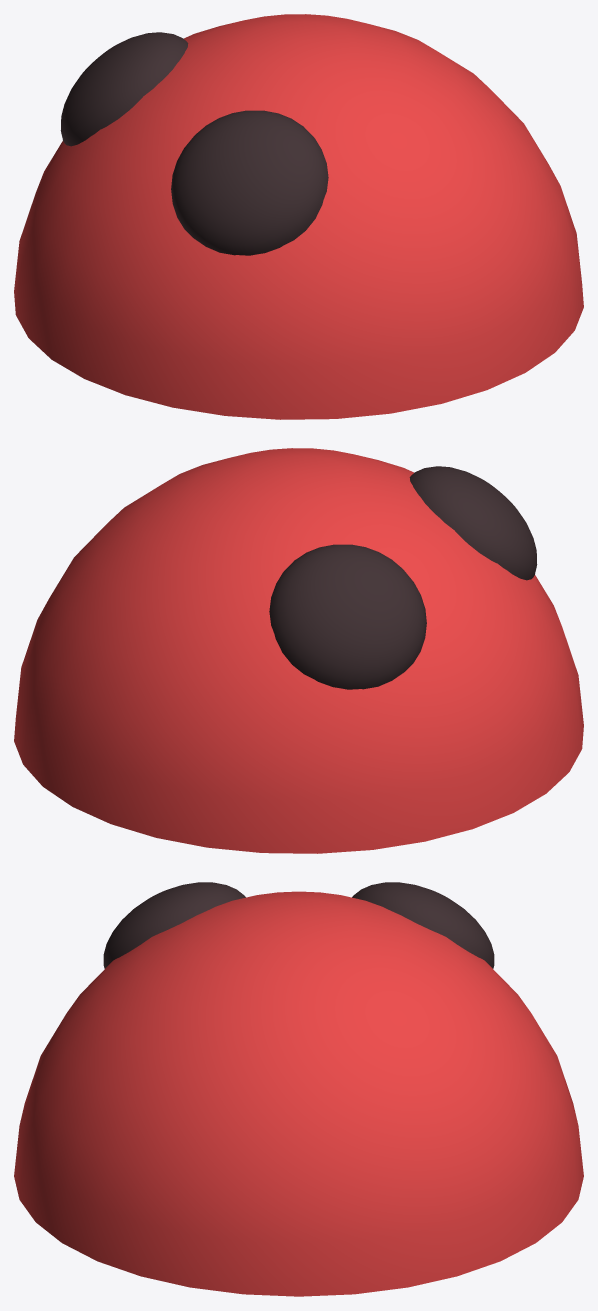
Rendered from jelly.fbx.
3 views of the same model, one above another, from view 1: azimuth 30°, elevation 25°; view 2: azimuth 150°, elevation 25°; view 3: azimuth 270°, elevation 25° (orthographic).
Visible parts, largest first — view 1: Sphere; view 2: Sphere; view 3: Sphere.
Part boxes in pixels (box(x1,y1,x2,y2)): Sphere: box(14, 14, 583, 419); Sphere: box(14, 448, 583, 853); Sphere: box(14, 882, 583, 1296).
Bounding box in the file's own units: 200 × 100 × 200.
